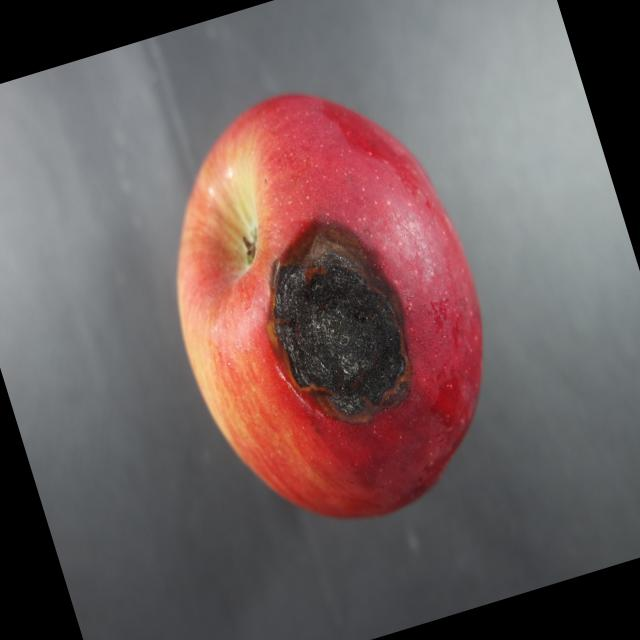rotten: (111, 46, 547, 576)
